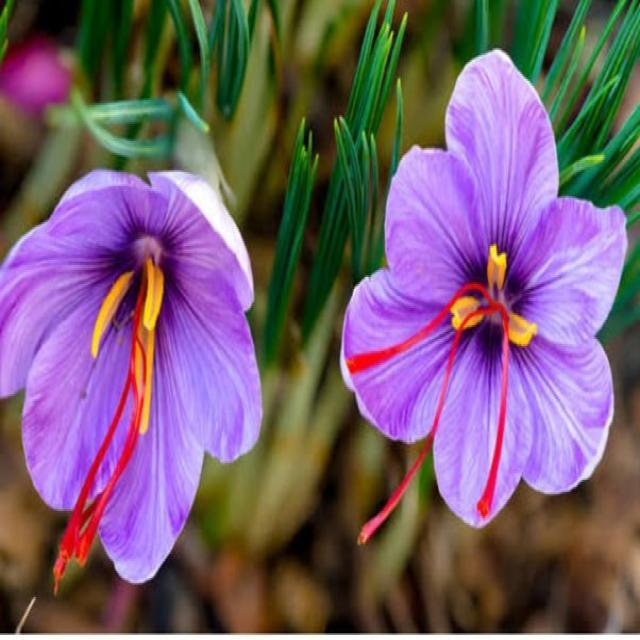Flower: (14, 172, 291, 529), (394, 122, 604, 496)
stigma: (53, 316, 156, 582), (354, 336, 472, 550), (342, 288, 459, 372), (477, 313, 522, 520)
